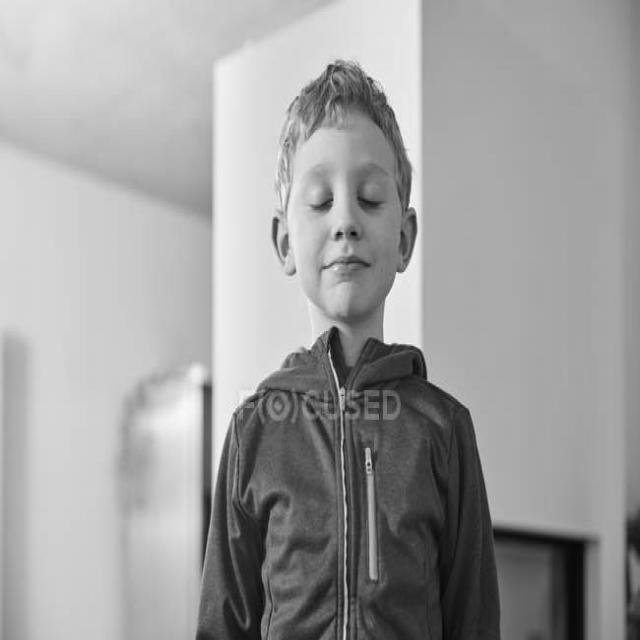real: (271, 100, 418, 323), (299, 160, 394, 228)
